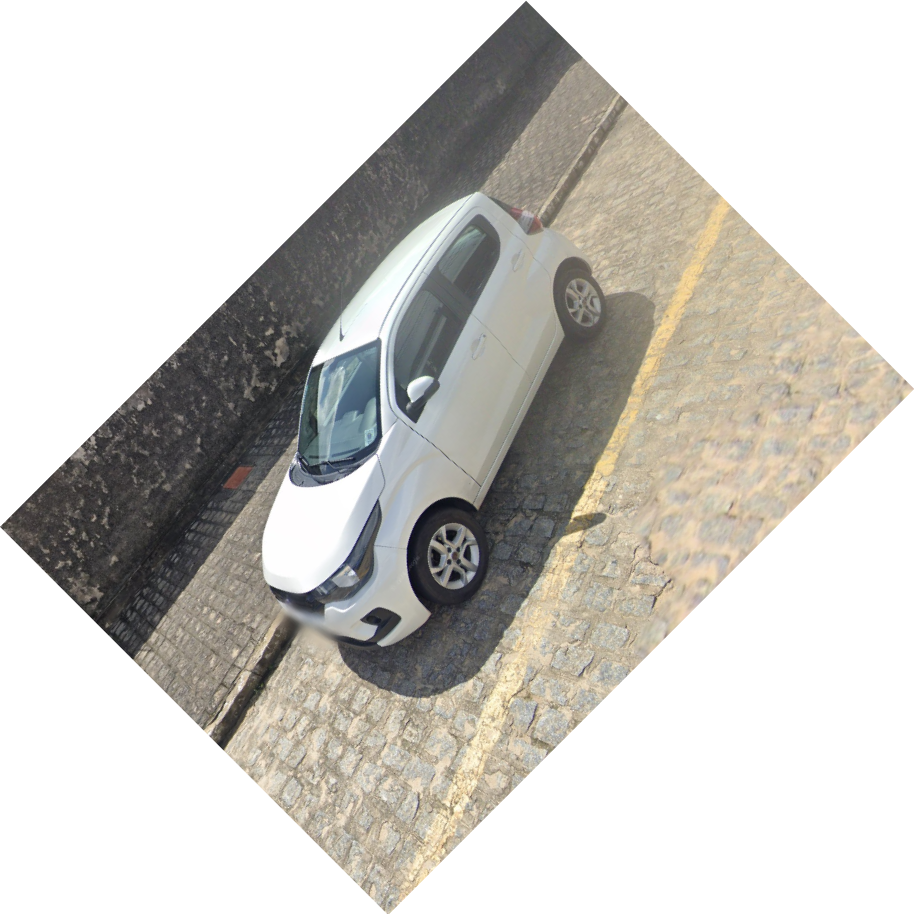car: (257, 187, 610, 654)
